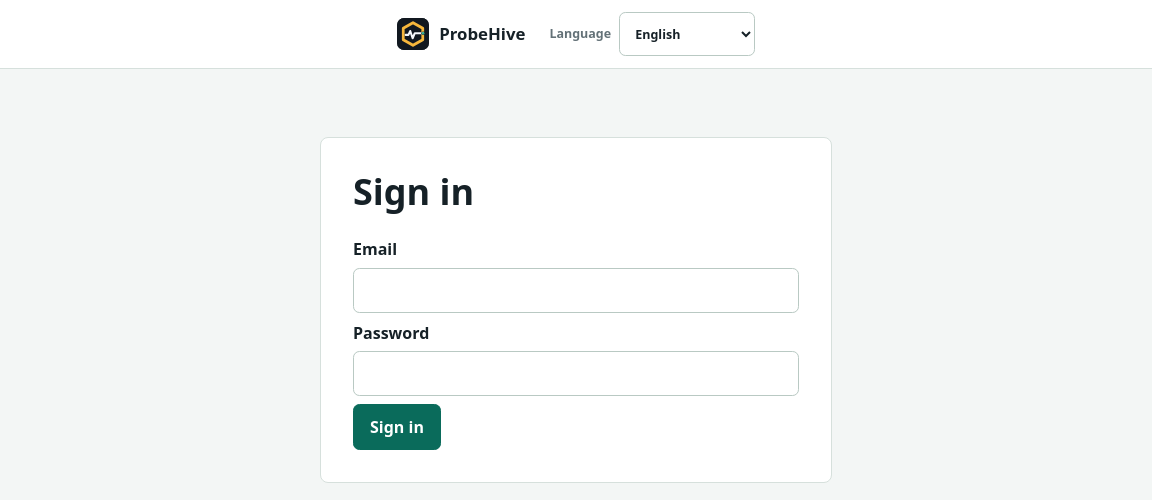
Test case: signs in and navigates to the home page
The width and height of the screenshot is (1152, 500).
Type "admin@example.test" into the field labelled "Email".
click(576, 290); type("admin@example.test")  # box [353, 268, 799, 313]
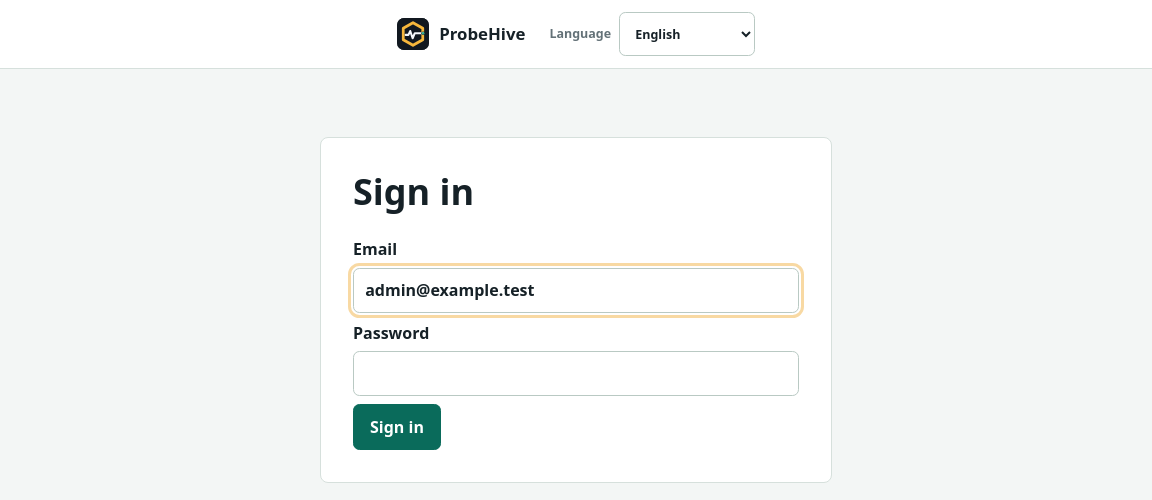
Type "a-long-admin-password" into the password field labelled "Password".
click(576, 374); type("a-long-admin-password")  # box [353, 351, 799, 396]
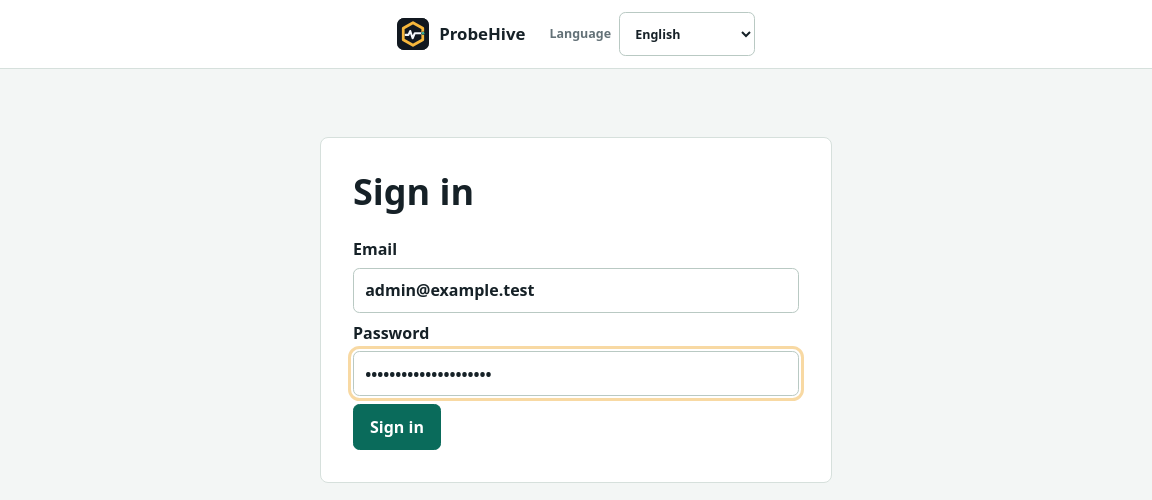
Click the button "Sign in".
click(397, 427)  # box [353, 404, 441, 450]
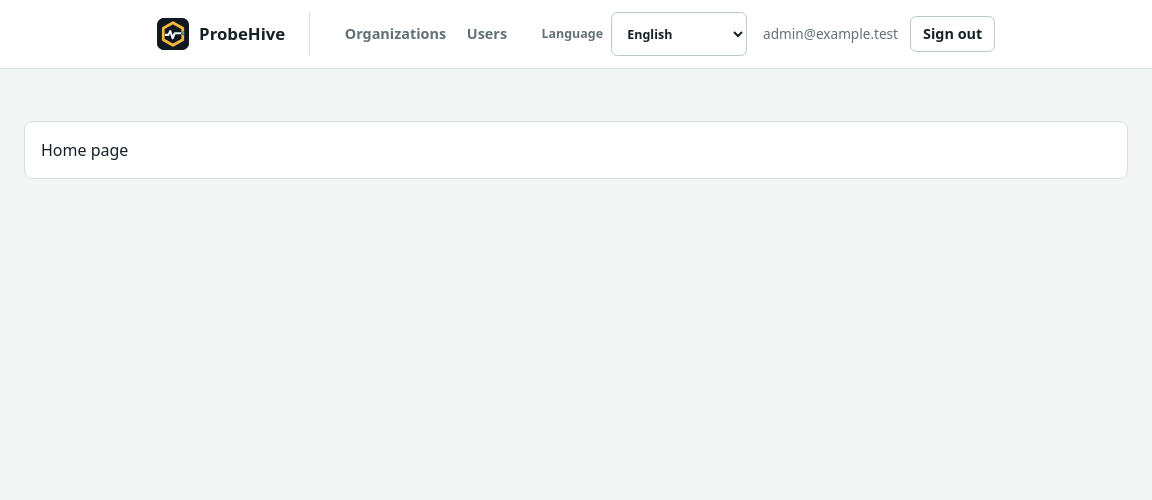
Now the text "Home page" is shown, box [24, 121, 1128, 179]
